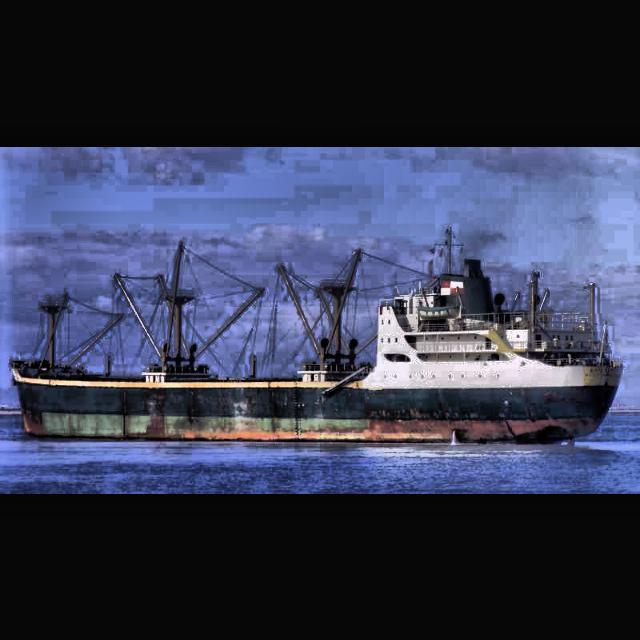bulk_carrier: (9, 228, 625, 450)
